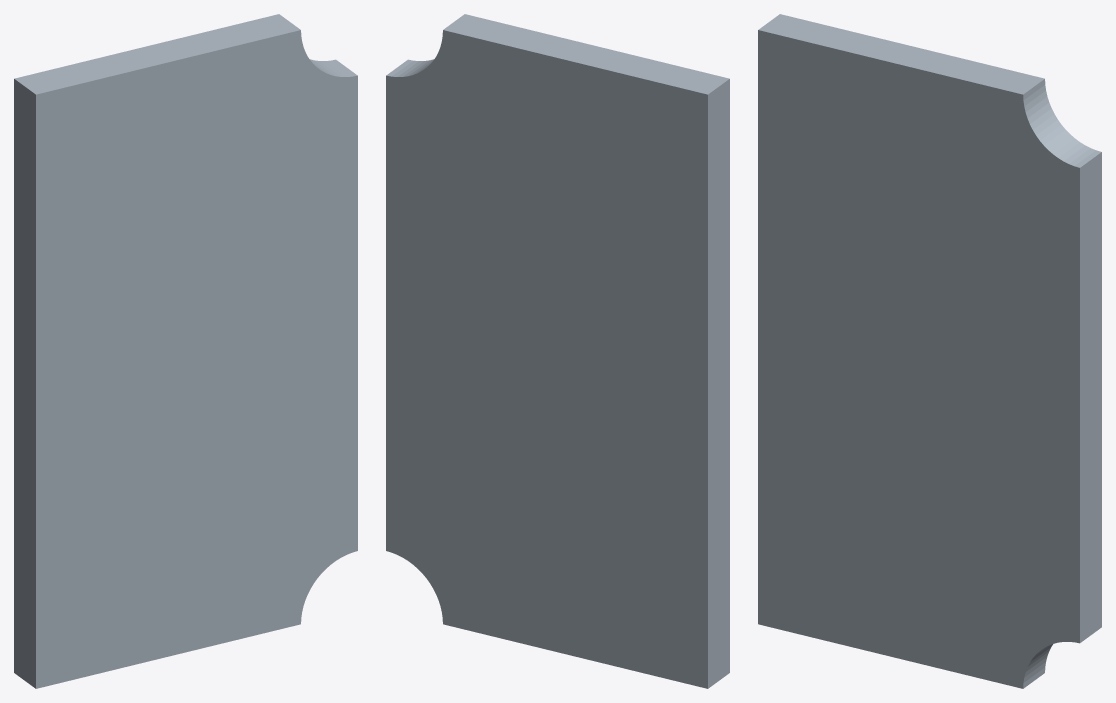
File: shop_s0101003.gltf
The picture shows the model from 3 angles, left to right: view 1: azimuth 30°, elevation 25°; view 2: azimuth 150°, elevation 25°; view 3: azimuth 330°, elevation 25°; orthographic projection.
Parts seen in each view (by area): view 1: 100054_PL10*85; view 2: 100054_PL10*85; view 3: 100054_PL10*85.
Part boxes in pixels (left/top/right/bottom): 100054_PL10*85: left=14, top=14, right=357, bottom=688; 100054_PL10*85: left=386, top=14, right=729, bottom=688; 100054_PL10*85: left=758, top=14, right=1101, bottom=688.
Size of the model in its own units: 0.085 by 0.15 by 0.01.
